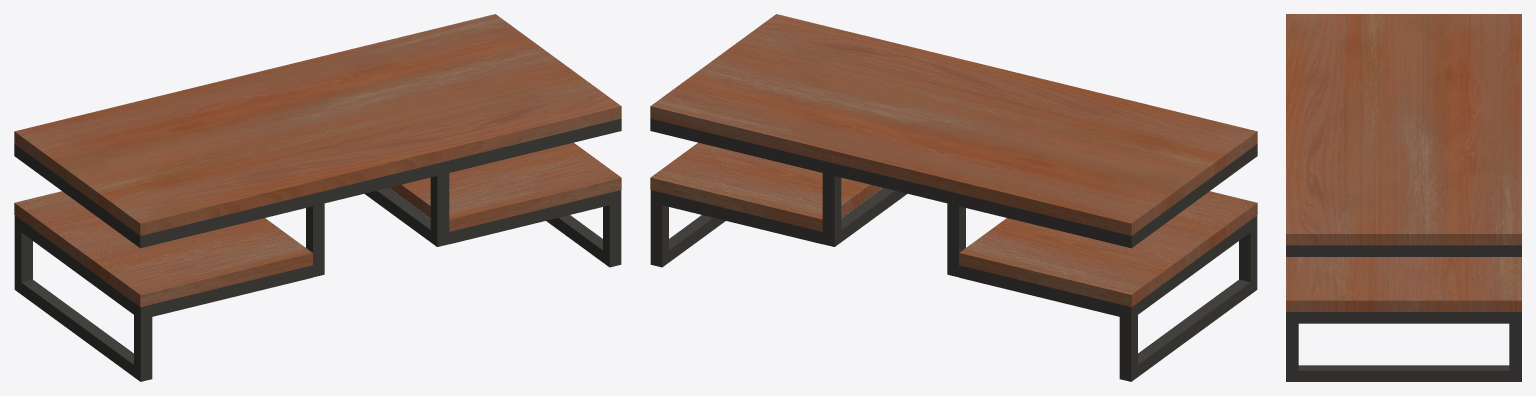
File: mubell_meeza_coffee_table.glb
The picture shows the model from 3 angles, left to right: view 1: azimuth 30°, elevation 25°; view 2: azimuth 150°, elevation 25°; view 3: azimuth 270°, elevation 25°; orthographic projection. The views are drawn at different scales.
Visible parts, largest first — view 1: Mubell Meeza Coffee Table; view 2: Mubell Meeza Coffee Table; view 3: Mubell Meeza Coffee Table.
Boxes of the visible parts, bbox=[...] form: Mubell Meeza Coffee Table: bbox=[14, 14, 621, 381]; Mubell Meeza Coffee Table: bbox=[650, 14, 1257, 381]; Mubell Meeza Coffee Table: bbox=[1286, 14, 1521, 381].
Size of the model in its own units: 1.21 by 0.3794 by 0.5472.
Materials: 1 (1 with a texture image).
